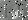person: (14, 8, 19, 19), (20, 6, 24, 17), (7, 9, 11, 19)
